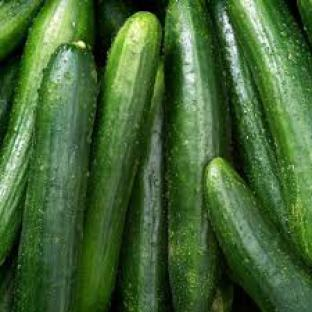Cucumber: (77, 13, 162, 311), (16, 42, 97, 311), (204, 159, 311, 311), (118, 64, 170, 311), (0, 57, 19, 144), (0, 253, 16, 311), (211, 276, 234, 311)
